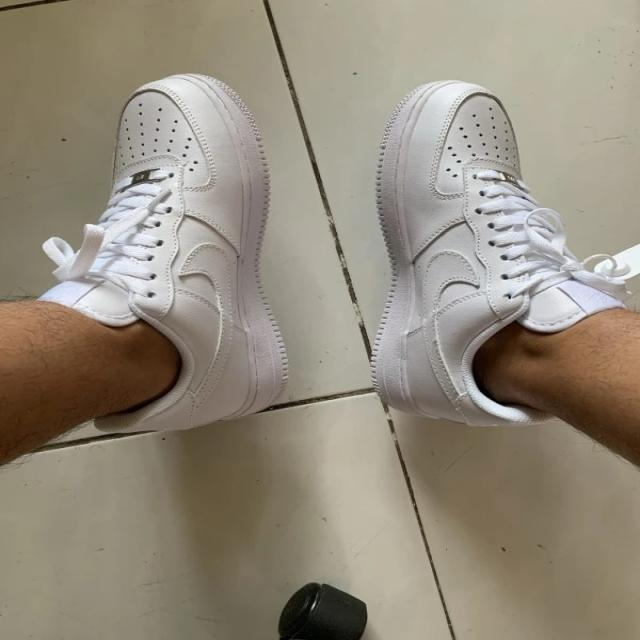nike original air force: (24, 73, 330, 439), (363, 81, 636, 426)
